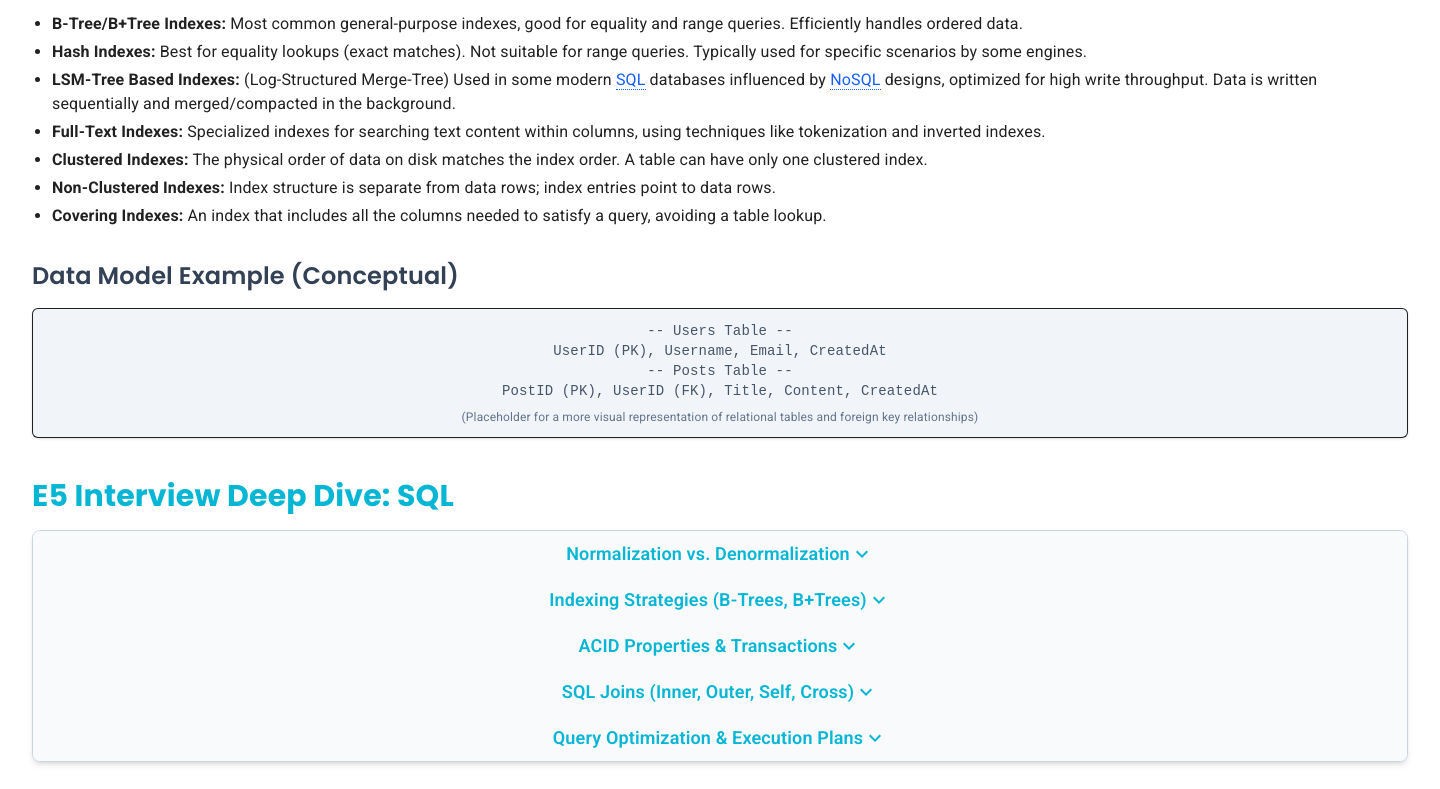
SectionSqlDB › clicking an accordion item opens it, shows content, and KeyboardArrowUpIcon
(page scrolled)
Click the button "Normalization vs. Denormalization" at (720, 554), box 33,531 -> 1407,577
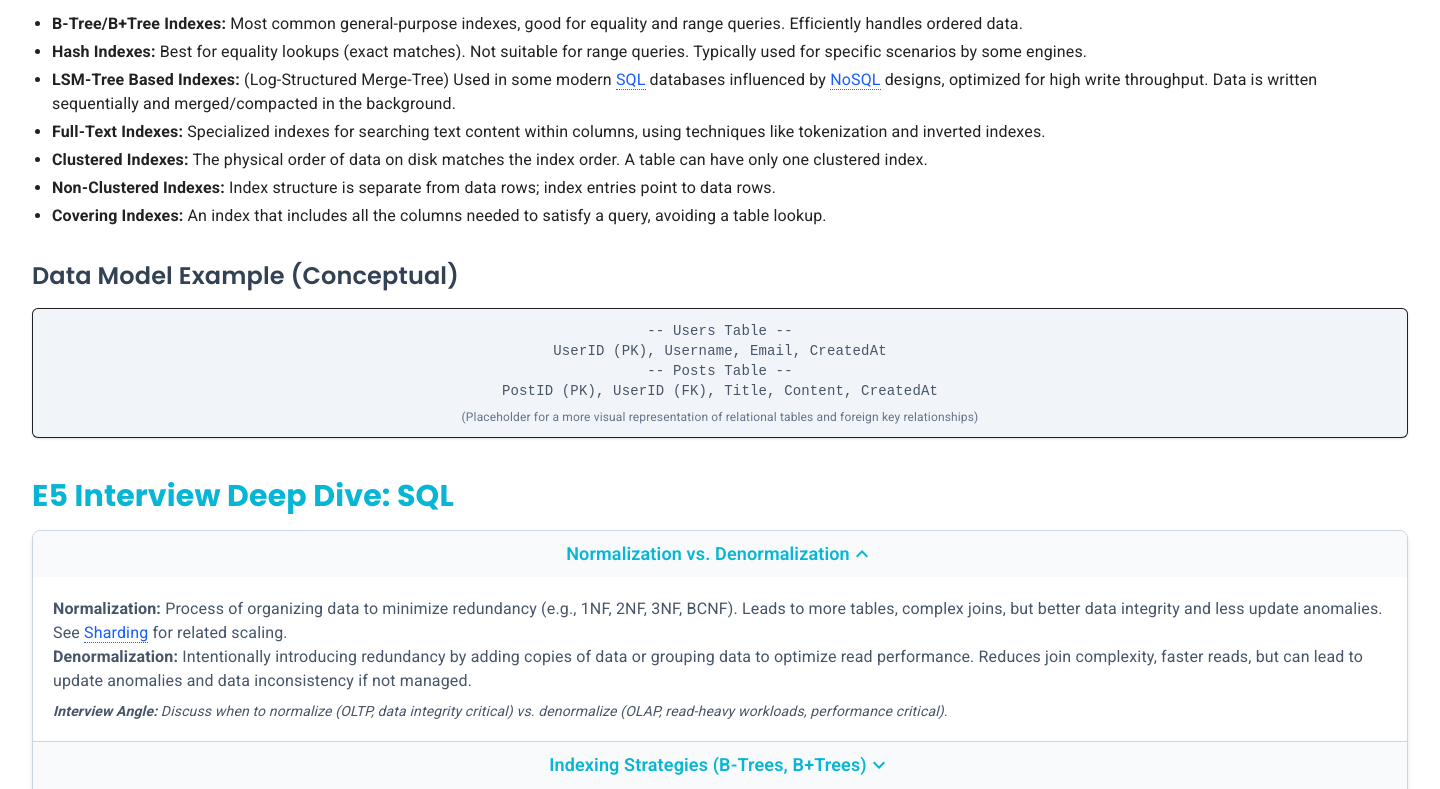
Check: the element with test id "accordion-content-0" shows "Normalization: Process of organizing data", box 53,597 -> 1387,721
Check: the icon with test id "KeyboardArrowUpIcon" is shown, box 850,542 -> 874,566
